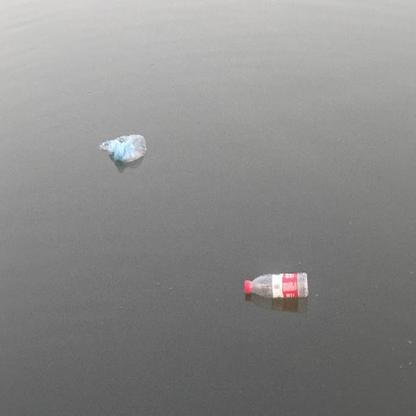plastic bag: (100, 134, 148, 162)
plastic bottle: (243, 272, 309, 299)
